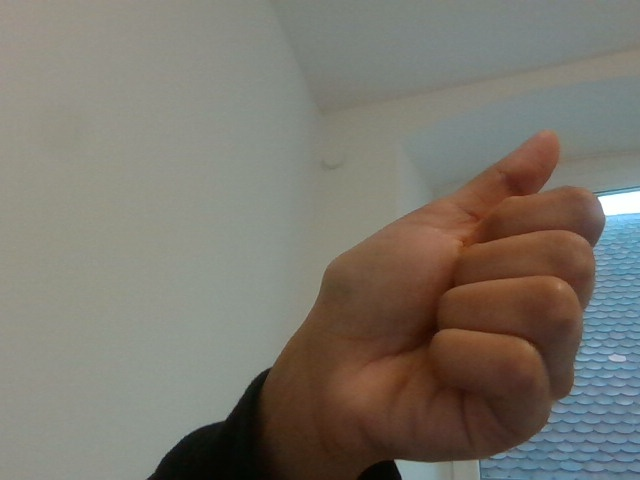Thumbs up: (280, 116, 619, 467)
